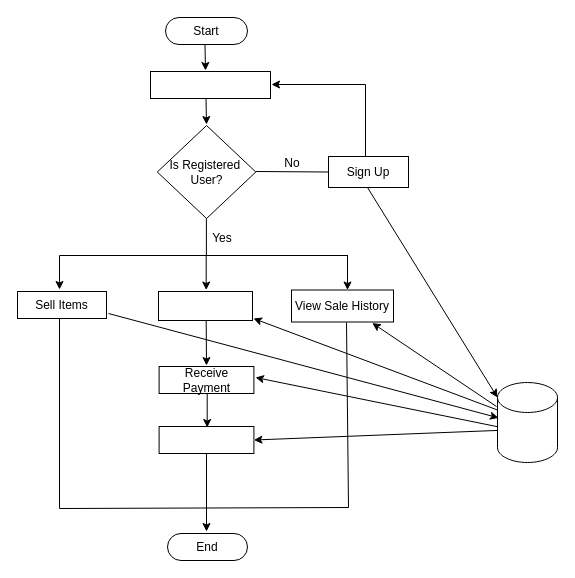
The diagram is 575 pixels wide and 578 high, and some of its shapes have lost their labels. Each missing label, with the centre of its shape:
Browse Items: the point at 205,305
Database: the point at 527,422
Deliver items: the point at 206,440
User Authentication: the point at 210,84
